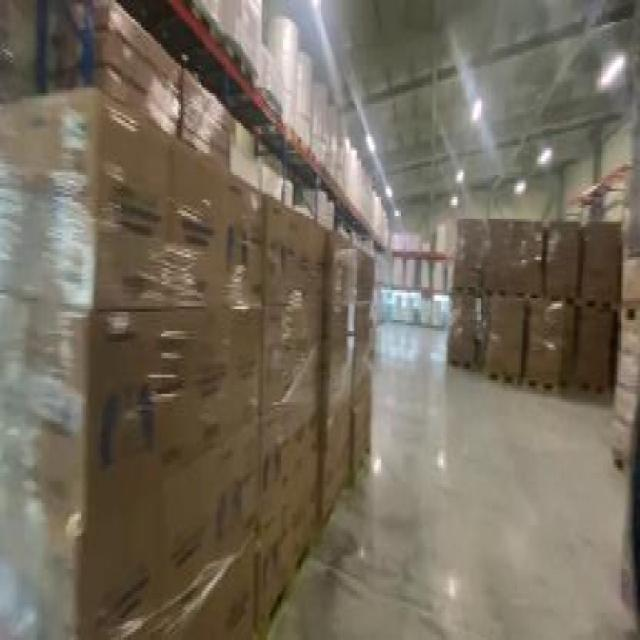box: (1, 104, 382, 637), (58, 0, 233, 202), (443, 214, 615, 408)
white_roll: (269, 14, 317, 140), (200, 0, 265, 82), (234, 134, 291, 211), (310, 85, 348, 183), (348, 156, 389, 235), (298, 183, 338, 241), (386, 295, 445, 331), (389, 252, 449, 284), (388, 224, 449, 246)
